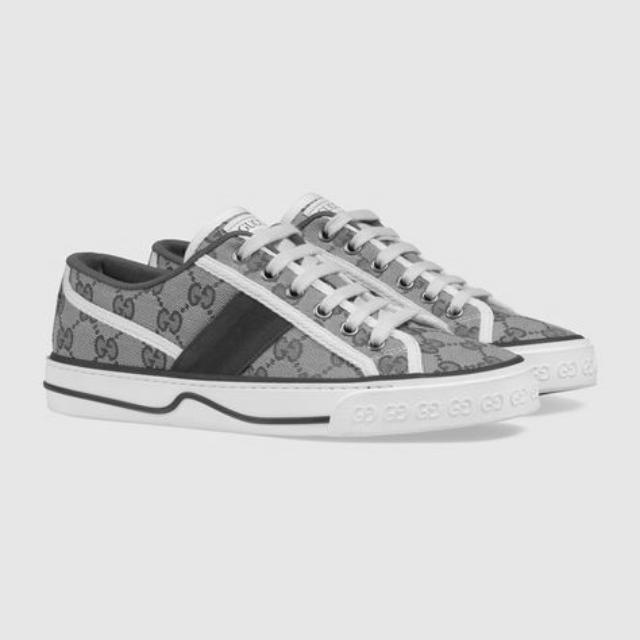Gucci: (221, 215, 279, 239), (296, 197, 346, 221)
